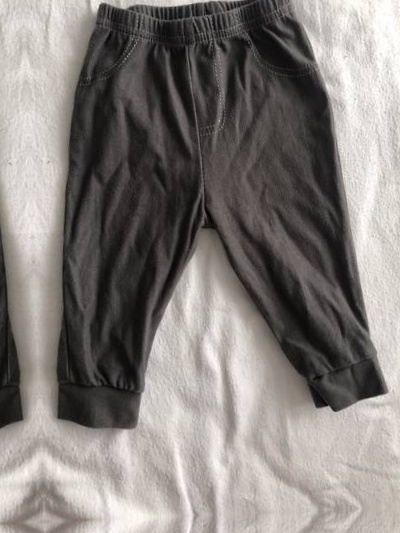Pants: (34, 0, 400, 436), (0, 0, 28, 452)
